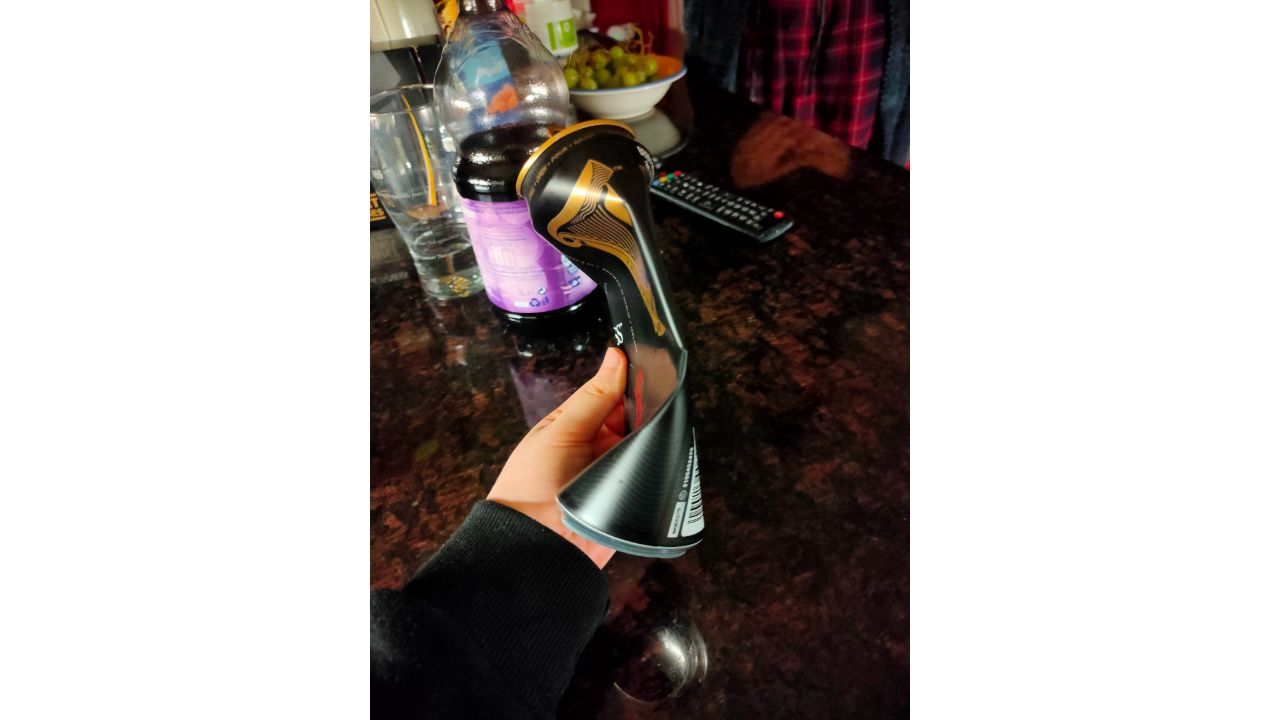Can: (511, 118, 722, 561)
